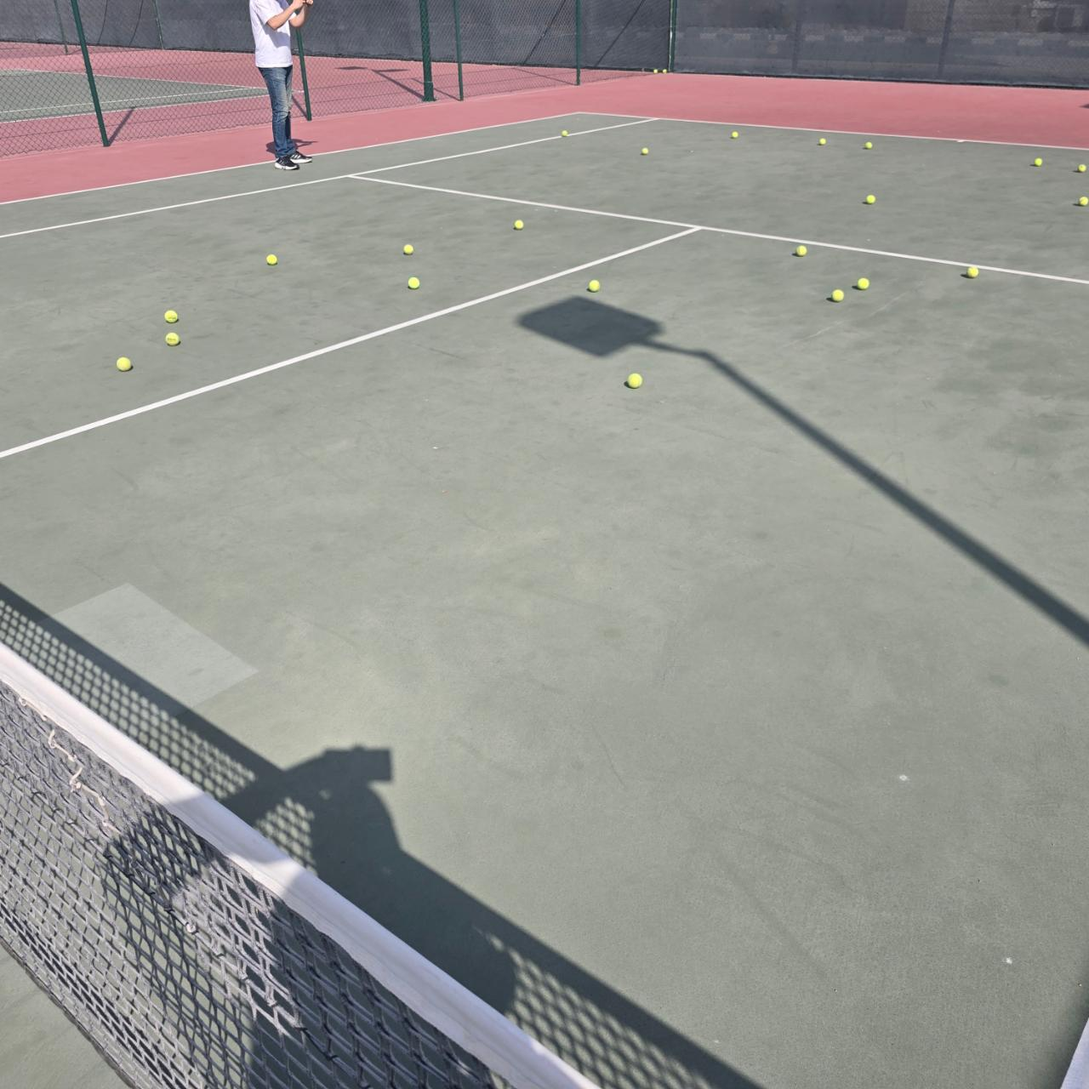tennis-ball: (624, 370, 642, 389), (115, 355, 132, 371), (163, 330, 180, 346), (162, 308, 179, 323), (828, 287, 844, 302), (585, 277, 600, 292), (406, 275, 420, 290), (854, 276, 869, 290), (964, 264, 978, 278), (265, 252, 277, 265), (401, 242, 413, 254), (794, 245, 806, 257), (1078, 196, 1089, 208), (866, 195, 876, 204), (1034, 157, 1043, 167), (514, 220, 523, 229), (1078, 164, 1087, 173), (865, 142, 873, 150), (819, 138, 827, 146), (641, 147, 649, 155), (731, 132, 738, 139), (561, 130, 567, 137), (653, 69, 658, 74), (663, 68, 667, 73)
